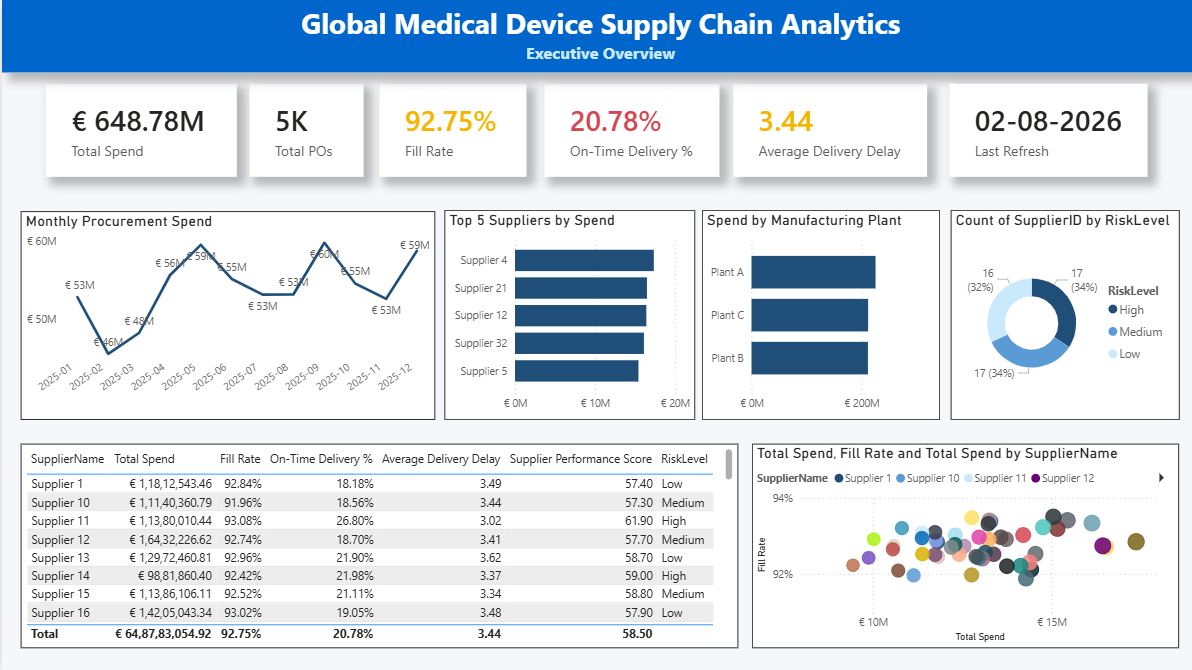

The page's visual inventory and layout, read from the dashboard file:
{"tool":"powerbi","page":{"name":"Executive Overview","canvas":[1366,768],"ordinal":1},"visuals":[{"type":"shape","box":[0,0,1365.7,82.9],"z":0},{"type":"cardVisual","fields":{"Data":["DAX Measures.Total Spend"]},"box":[49.6,95,218.3,106.7],"z":1000},{"type":"cardVisual","fields":{"Data":["DAX Measures.Total POs"]},"box":[283,95,130,106.7],"z":2000},{"type":"cardVisual","fields":{"Data":["DAX Measures.Fill Rate"]},"box":[431.3,95,168.3,106.7],"z":3000},{"type":"cardVisual","fields":{"Data":["DAX Measures.On-Time Delivery %"]},"box":[619.6,95,200,106.7],"z":4000},{"type":"cardVisual","fields":{"Data":["DAX Measures.Average Delivery Delay"]},"box":[836.3,95,221.7,106.7],"z":5000},{"type":"textbox","box":[2.9,0,1362.9,82.9],"z":6000},{"type":"lineChart","title":"Monthly Procurement Spend","fields":{"Category":["Calendar.Year Month"],"Y":["DAX Measures.Total Spend"]},"box":[21.7,241.7,473.3,238.3],"z":7000},{"type":"clusteredBarChart","title":"Top 5 Suppliers by Spend","fields":{"Category":["Supplier_Master.SupplierName"],"Y":["DAX Measures.Total Spend"]},"box":[505.7,239.8,286.7,240],"z":8000},{"type":"clusteredBarChart","title":"Spend by Manufacturing Plant","fields":{"Category":["Purchase_Orders.Plant"],"Y":["DAX Measures.Total Spend"]},"box":[800.7,239.8,271.7,240],"z":9000},{"type":"tableEx","fields":{"Values":["Supplier_Master.SupplierName","DAX Measures.Total Spend","DAX Measures.Fill Rate","DAX Measures.On-Time Delivery %","DAX Measures.Average Delivery Delay","DAX Measures.Supplier Performance Score","Supplier_Master.RiskLevel"]},"box":[21.7,506.7,820,233.3],"z":10000},{"type":"scatterChart","fields":{"X":["DAX Measures.Total Spend"],"Y":["DAX Measures.Fill Rate"],"Series":["Supplier_Master.SupplierName"],"Size":["DAX Measures.Total Spend"]},"box":[856.7,506.7,488.3,233.3],"z":11000},{"type":"donutChart","fields":{"Category":["Supplier_Master.RiskLevel"],"Y":["CountNonNull(Supplier_Master.SupplierID)"]},"box":[1084,239.8,261.7,240],"z":12000},{"type":"cardVisual","fields":{"Data":["DAX Measures.Last Refresh"]},"box":[1083,95,226.7,106.7],"z":13000}]}

Visuals, with their boxes in screenshot pixels (x1, y1, x2, y2), scaled from the page's 1366x768 canvas onto the 1192x670 screenshot:
shape: [left=0, top=0, right=1191, bottom=72]
cardVisual - DAX Measures.Total Spend: [left=43, top=83, right=234, bottom=176]
cardVisual - DAX Measures.Total POs: [left=247, top=83, right=360, bottom=176]
cardVisual - DAX Measures.Fill Rate: [left=376, top=83, right=523, bottom=176]
cardVisual - DAX Measures.On-Time Delivery %: [left=541, top=83, right=715, bottom=176]
cardVisual - DAX Measures.Average Delivery Delay: [left=730, top=83, right=923, bottom=176]
textbox: [left=3, top=0, right=1191, bottom=72]
"Monthly Procurement Spend" lineChart: [left=19, top=211, right=432, bottom=419]
"Top 5 Suppliers by Spend" clusteredBarChart: [left=441, top=209, right=691, bottom=419]
"Spend by Manufacturing Plant" clusteredBarChart: [left=699, top=209, right=936, bottom=419]
tableEx - Supplier_Master.SupplierName x DAX Measures.Total Spend: [left=19, top=442, right=734, bottom=646]
scatterChart - DAX Measures.Total Spend x DAX Measures.Fill Rate: [left=748, top=442, right=1174, bottom=646]
donutChart - Supplier_Master.RiskLevel x CountNonNull(Supplier_Master.SupplierID): [left=946, top=209, right=1174, bottom=419]
cardVisual - DAX Measures.Last Refresh: [left=945, top=83, right=1143, bottom=176]
